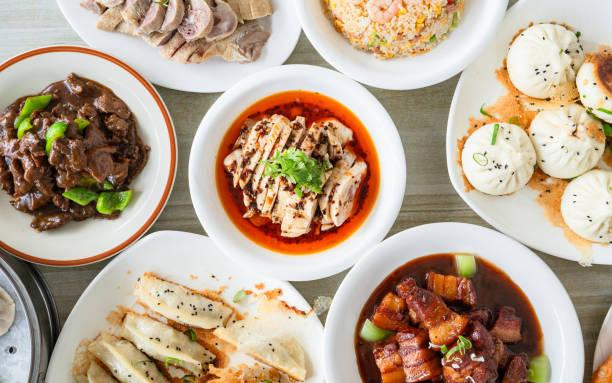Braised Crucian Carp: (188, 63, 400, 281), (40, 229, 332, 381), (447, 2, 612, 267), (322, 221, 583, 382), (3, 48, 170, 258)
